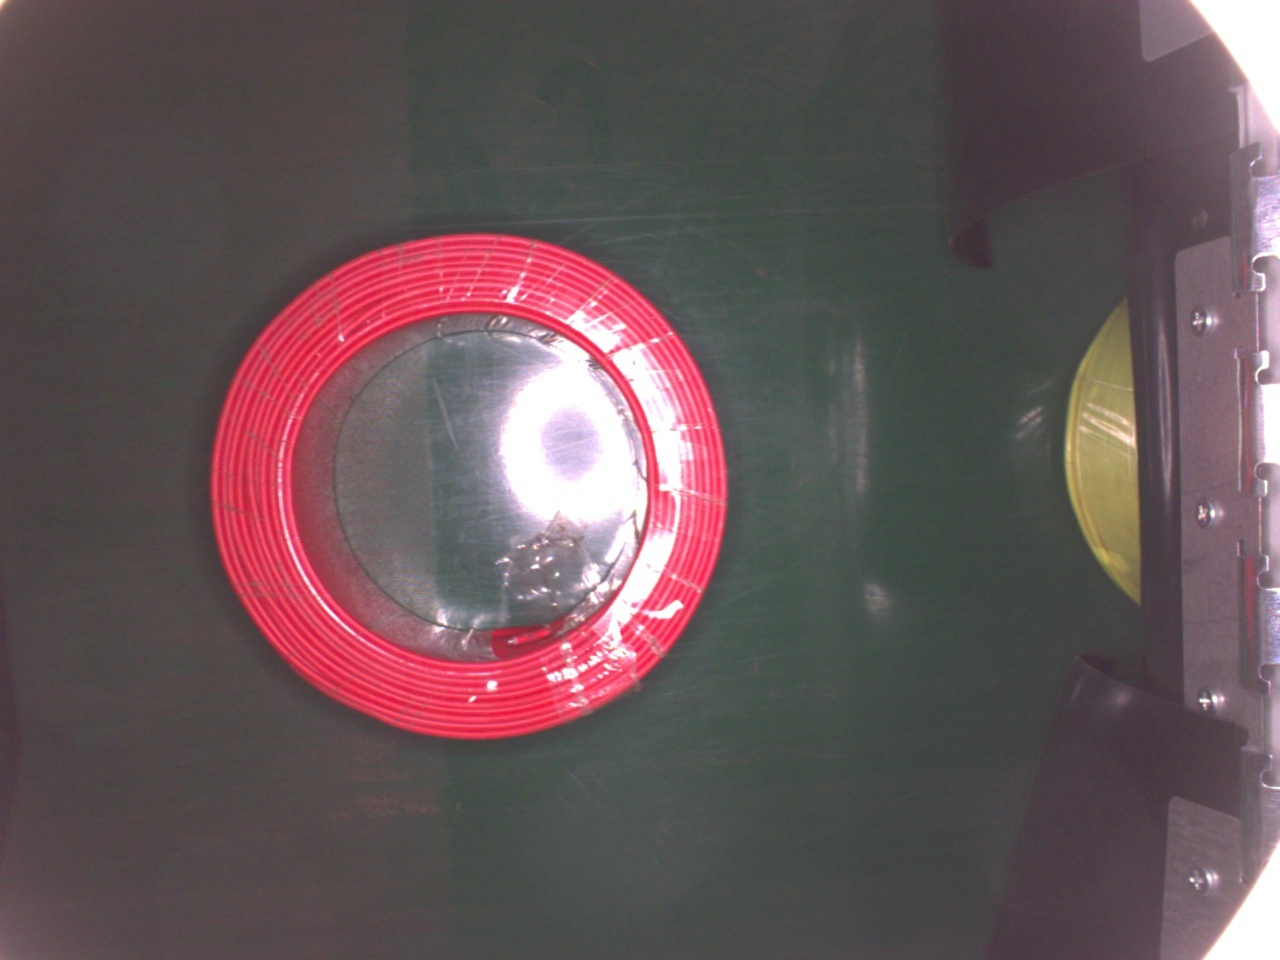red: (212, 229, 729, 742)
